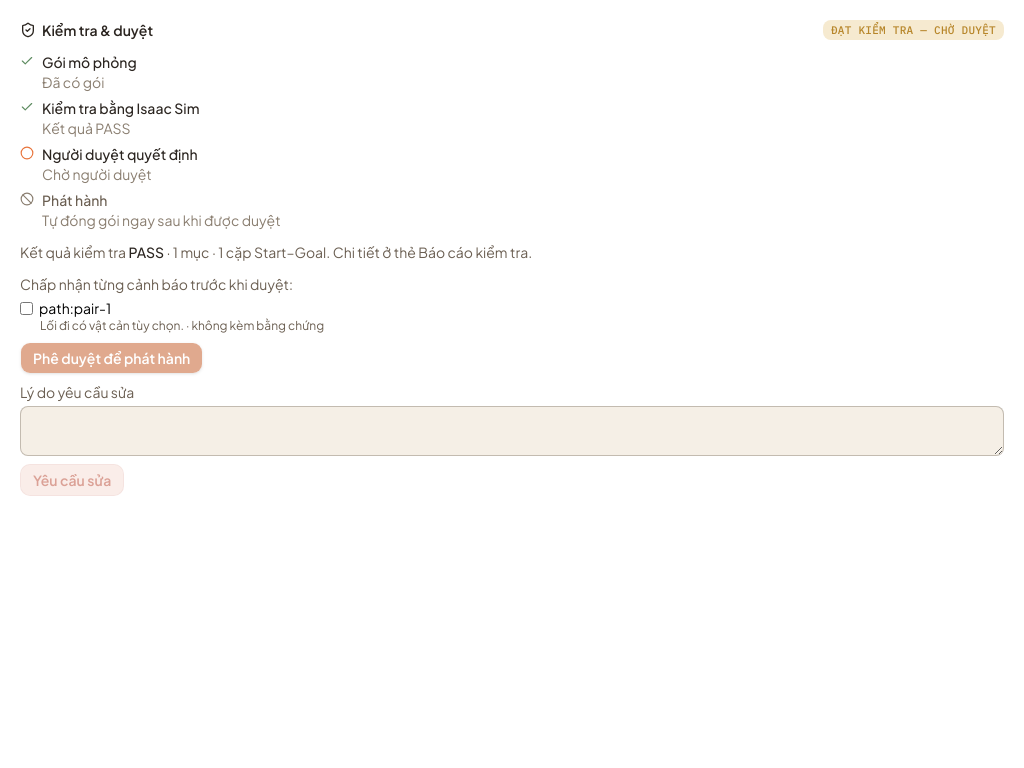
it: ReviewPanel › phê duyệt chỉ sau khi chấp nhận cảnh báo và xác nhận, gửi đúng checksum
This screenshot has width=1024, height=768.
Check: the button "Phê duyệt để phát hành" is disabled, box [20,342,203,374]
Click the checkbox labelled "path:pair-1" at (26, 308), box [20,302,33,314]
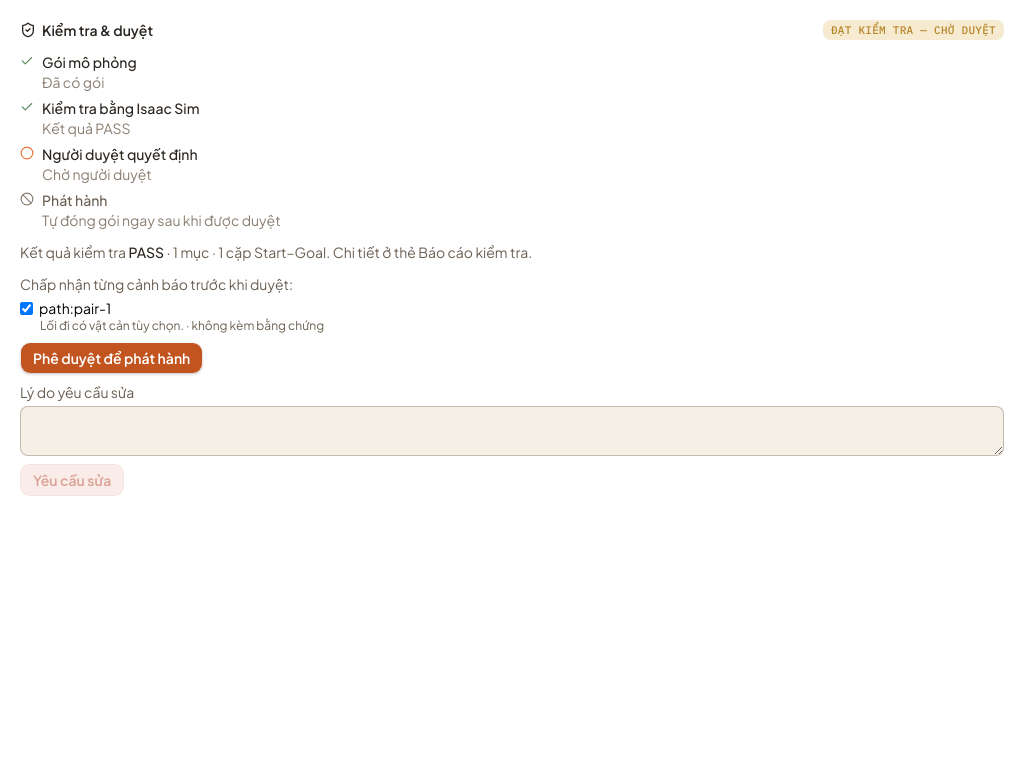
Click the button "Phê duyệt để phát hành" at (112, 358), box [20,342,203,374]
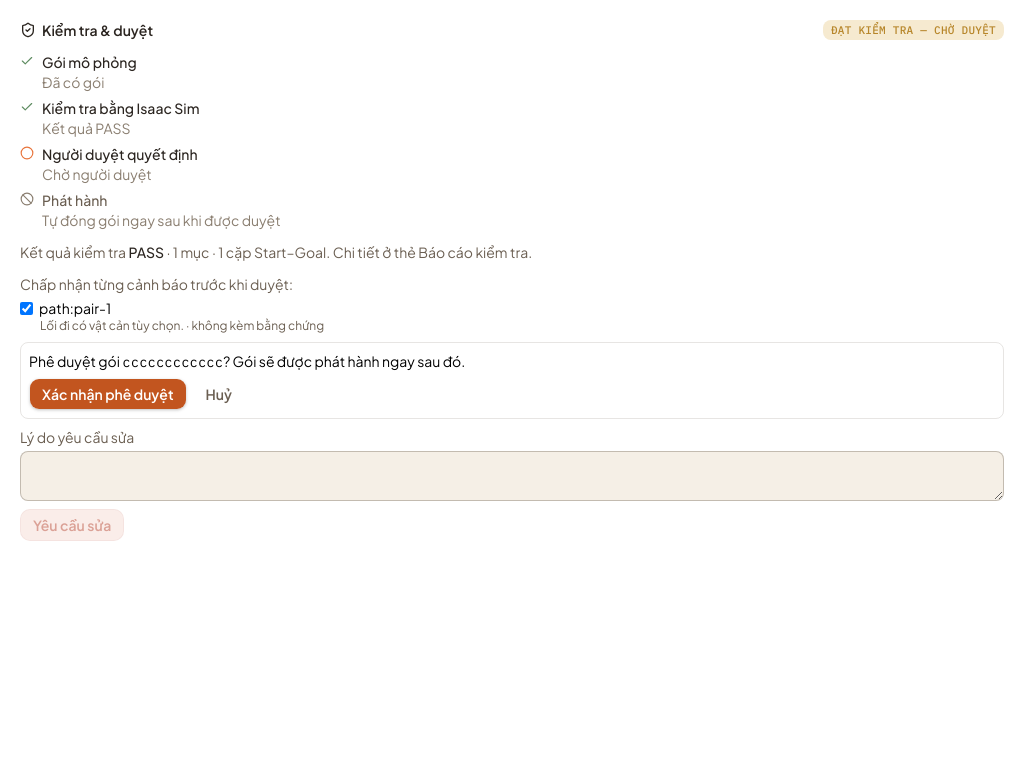
Click the button "Xác nhận phê duyệt" at (108, 394), box [29,378,187,410]
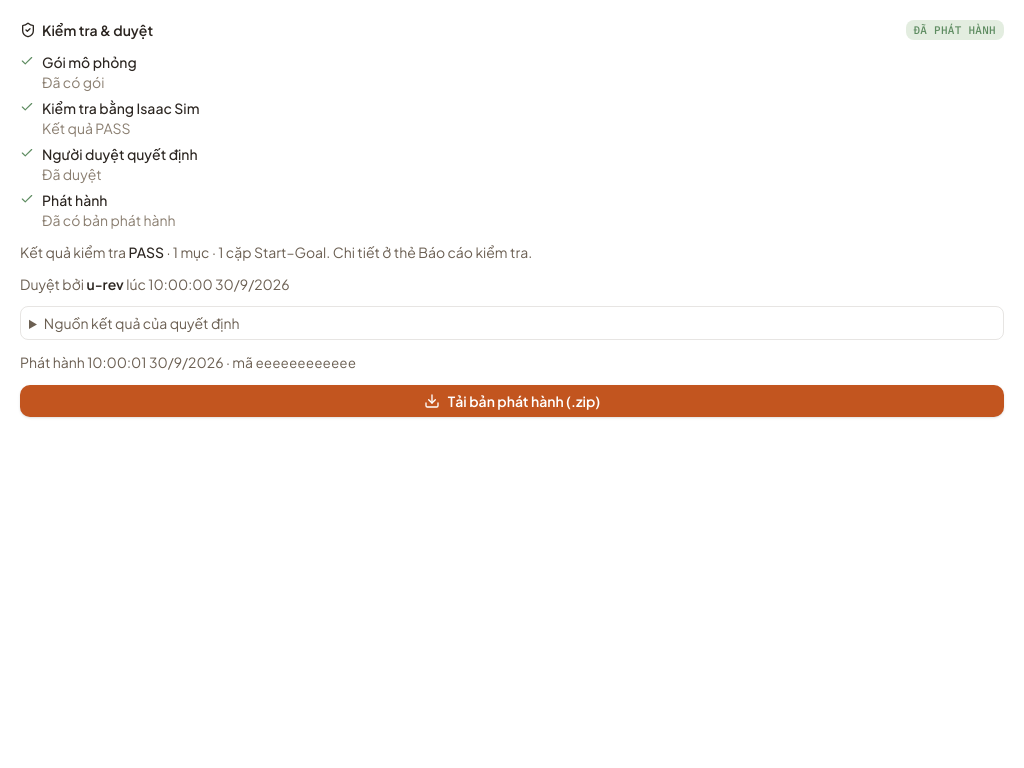
Check: the link "Tải bản phát hành (.zip)" is shown, box [20,385,1004,417]
